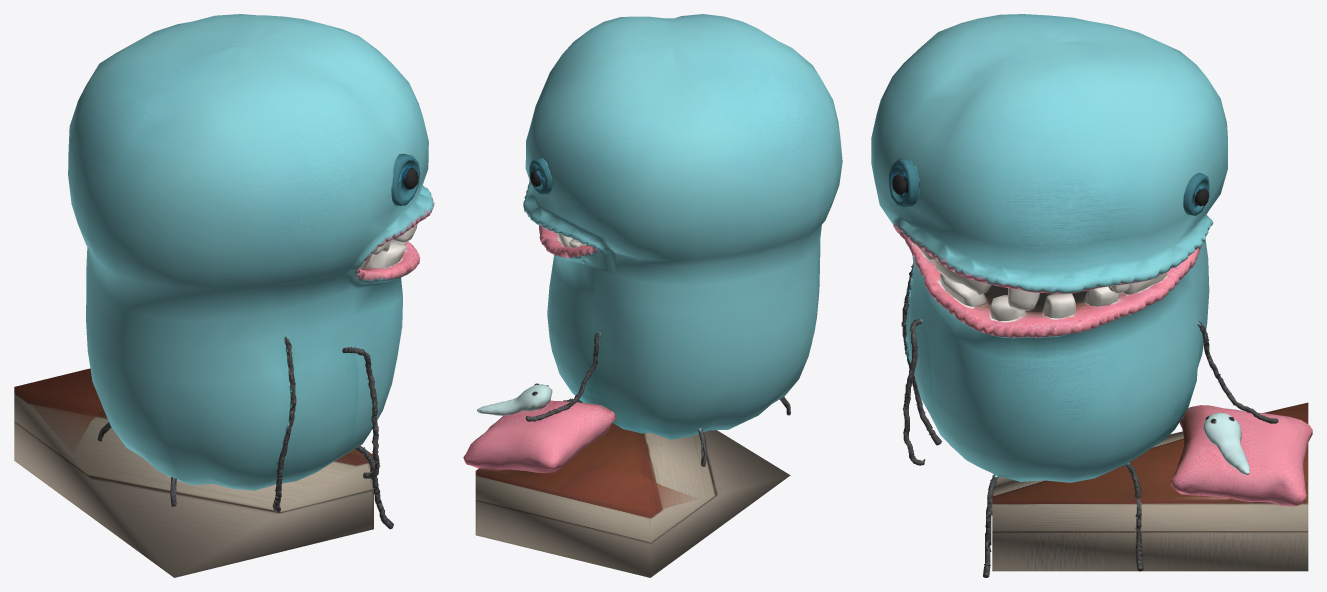
3 views of the same model, side by side, from view 1: azimuth 30°, elevation 25°; view 2: azimuth 150°, elevation 25°; view 3: azimuth 270°, elevation 25° (orthographic). The views are drawn at different scales.
Visible parts, largest first — view 1: tripo_node_44efe8f2-fdf8-49d1-babe-8707c8157808; view 2: tripo_node_44efe8f2-fdf8-49d1-babe-8707c8157808; view 3: tripo_node_44efe8f2-fdf8-49d1-babe-8707c8157808.
Boxes of the visible parts, x1,y1,x2,y2 form: tripo_node_44efe8f2-fdf8-49d1-babe-8707c8157808: (14, 14, 434, 577); tripo_node_44efe8f2-fdf8-49d1-babe-8707c8157808: (463, 14, 842, 577); tripo_node_44efe8f2-fdf8-49d1-babe-8707c8157808: (871, 14, 1312, 577).
Size of the model in its own units: 0.6816 by 0.998 by 0.8262.
1 material, 1 textured.
